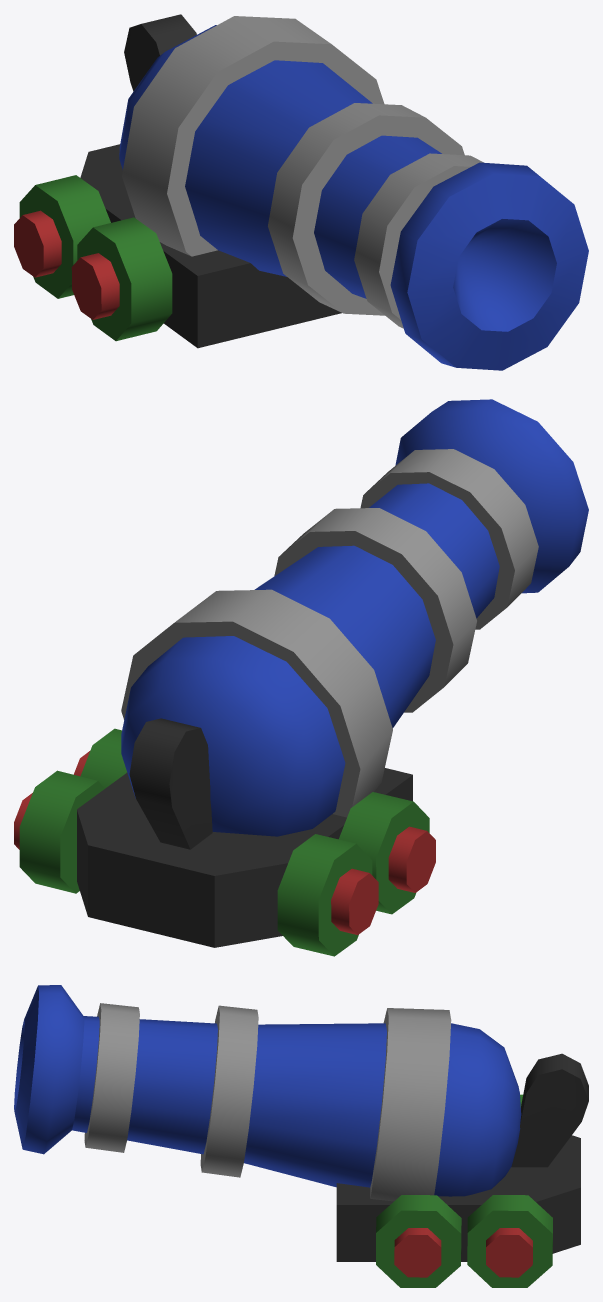
File: Cannon_05_mm.fbx
The picture shows the model from 3 angles, top to bottom: view 1: azimuth 30°, elevation 25°; view 2: azimuth 150°, elevation 25°; view 3: azimuth 270°, elevation 25°; orthographic projection. The views are drawn at different scales.
Parts seen in each view (by area): view 1: Cannon_05; view 2: Cannon_05; view 3: Cannon_05.
Part boxes in pixels (x1,y1,x2,y2): Cannon_05: (14, 14, 588, 370); Cannon_05: (14, 399, 588, 956); Cannon_05: (14, 985, 588, 1287).
Bounding box in the file's own units: 95.01 × 80.39 × 177.
